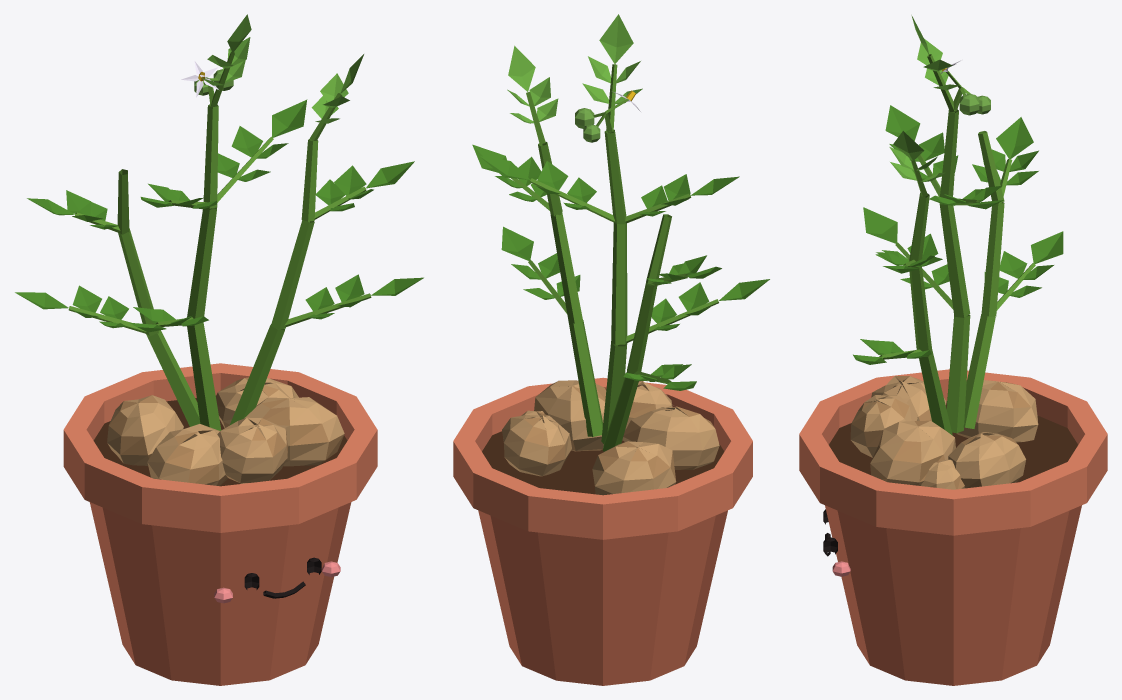
The model's file is potato_stage3.glb.
The picture shows the model from 3 angles, left to right: view 1: azimuth 30°, elevation 25°; view 2: azimuth 150°, elevation 25°; view 3: azimuth 270°, elevation 25°; orthographic projection. The views are drawn at different scales.
Parts seen in each view (by area): view 1: potato_stage3_harvest; view 2: potato_stage3_harvest; view 3: potato_stage3_harvest.
Boxes of the visible parts, x1,y1,x2,y2 form: potato_stage3_harvest: [15, 14, 423, 685]; potato_stage3_harvest: [453, 14, 769, 685]; potato_stage3_harvest: [799, 15, 1107, 685].
Size of the model in its own units: 2.3 by 4.35 by 1.92.
